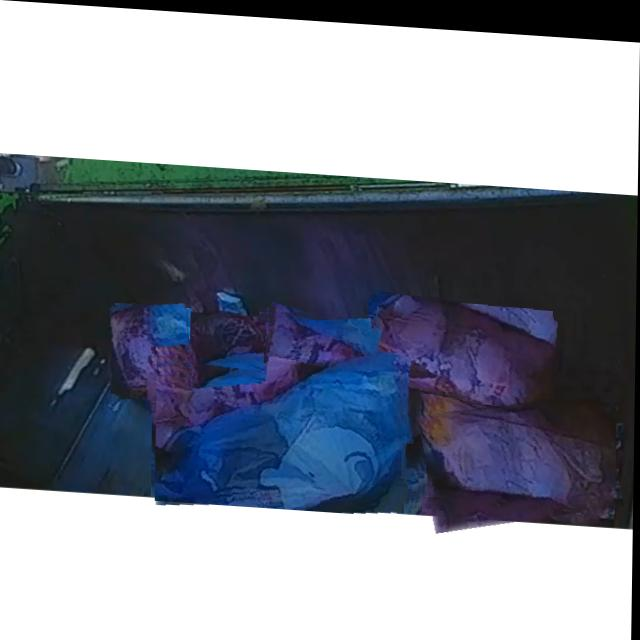other_trashbag: (157, 354, 403, 506), (373, 289, 555, 447), (417, 393, 617, 503), (263, 307, 373, 418), (112, 305, 192, 397), (191, 311, 266, 362)
